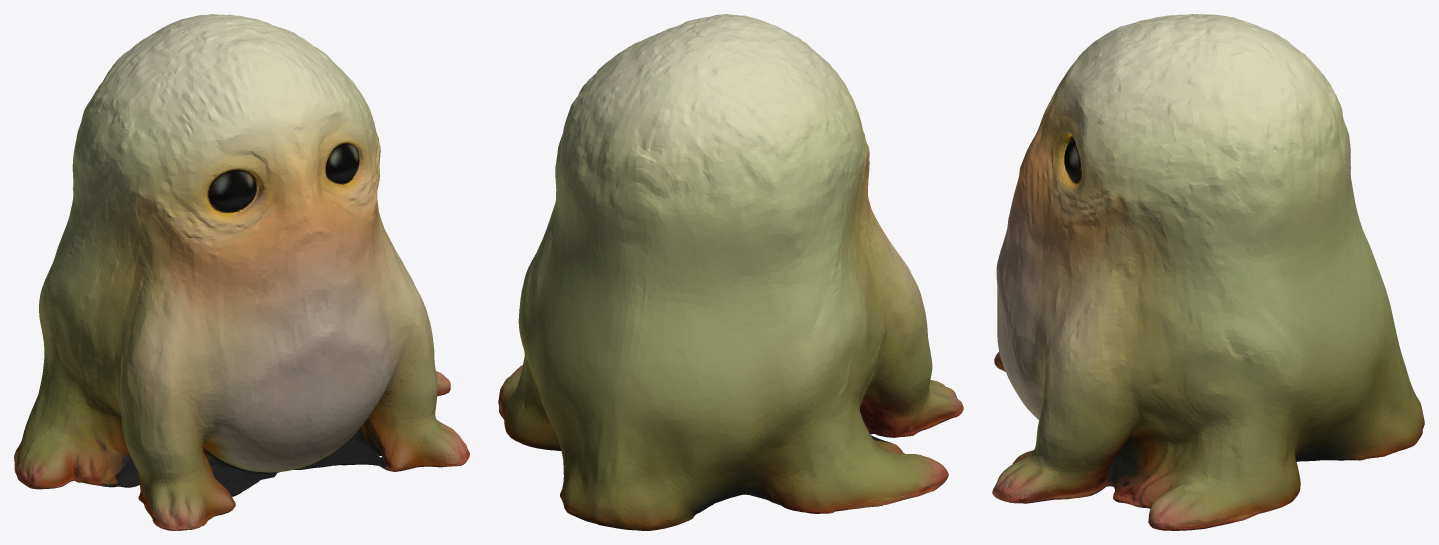
The model's file is blob_slime.glb.
The picture shows the model from 3 angles, left to right: view 1: azimuth 30°, elevation 25°; view 2: azimuth 150°, elevation 25°; view 3: azimuth 270°, elevation 25°; orthographic projection. The views are drawn at different scales.
Visible parts, largest first — view 1: textured_mesh.obj; view 2: textured_mesh.obj; view 3: textured_mesh.obj.
Boxes of the visible parts, <box> form: textured_mesh.obj: <box>14,14,469,530</box>; textured_mesh.obj: <box>498,14,963,530</box>; textured_mesh.obj: <box>992,14,1424,530</box>.
Size of the model in its own units: 1.99 by 1.8 by 1.74.
1 material, 1 textured.
